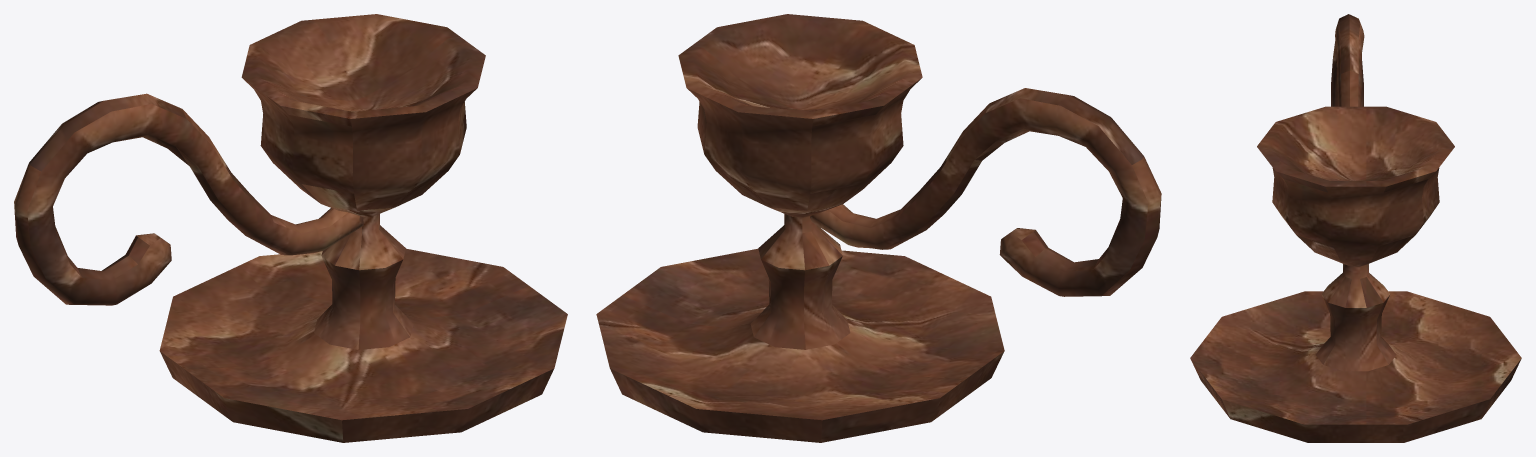
Rendered from tr_candlestick.glb.
The picture shows the model from 3 angles, left to right: view 1: azimuth 30°, elevation 25°; view 2: azimuth 150°, elevation 25°; view 3: azimuth 270°, elevation 25°; orthographic projection. The views are drawn at different scales.
Visible parts, largest first — view 1: model; view 2: model; view 3: model.
Boxes of the visible parts, x1,y1,x2,y2 form: model: [14, 14, 567, 442]; model: [596, 14, 1161, 442]; model: [1190, 14, 1521, 442].
Size of the model in its own units: 0.2609 by 0.1552 by 0.1794.
Materials: 1 (1 with a texture image).
